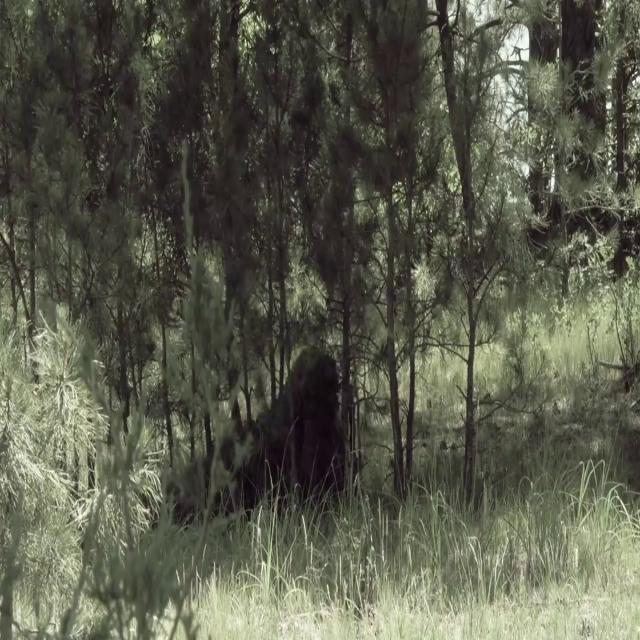Camouflage: (161, 349, 346, 531)
